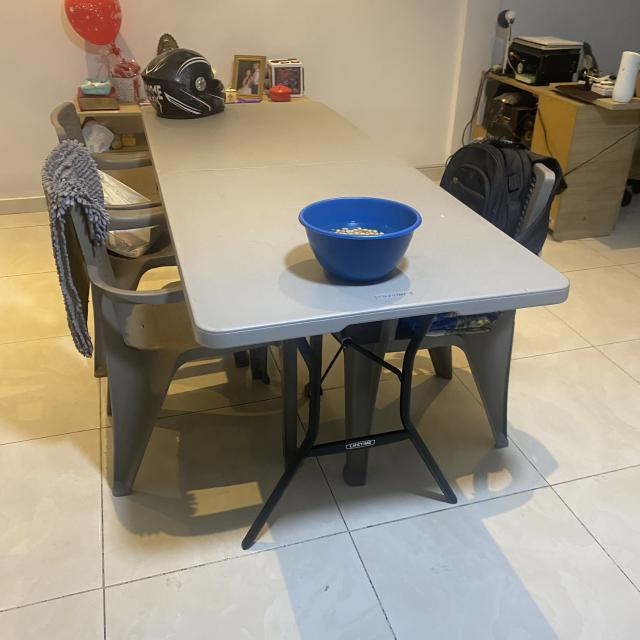obstacle: (28, 98, 561, 560), (467, 18, 640, 250)
